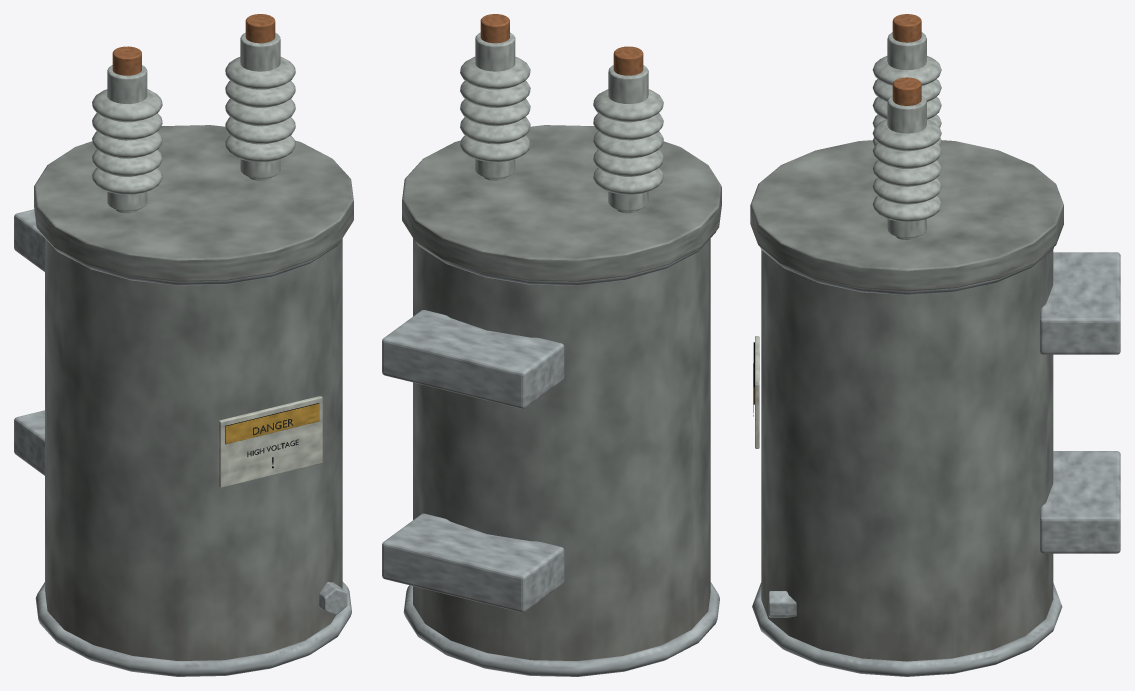
The model's file is GR_PoleTransformer_01.glb.
3 renders of one model, left to right at view 1: azimuth 30°, elevation 25°; view 2: azimuth 150°, elevation 25°; view 3: azimuth 270°, elevation 25°, orthographic. The views are drawn at different scales.
Visible parts, largest first — view 1: Static; view 2: Static; view 3: Static.
Part boxes in pixels (x1,y1,x2,y2): Static: (14,14,353,676); Static: (382,14,721,676); Static: (750,14,1120,676).
Size of the model in its own units: 0.544 by 1.08 by 0.642.
1 material, 1 textured.
